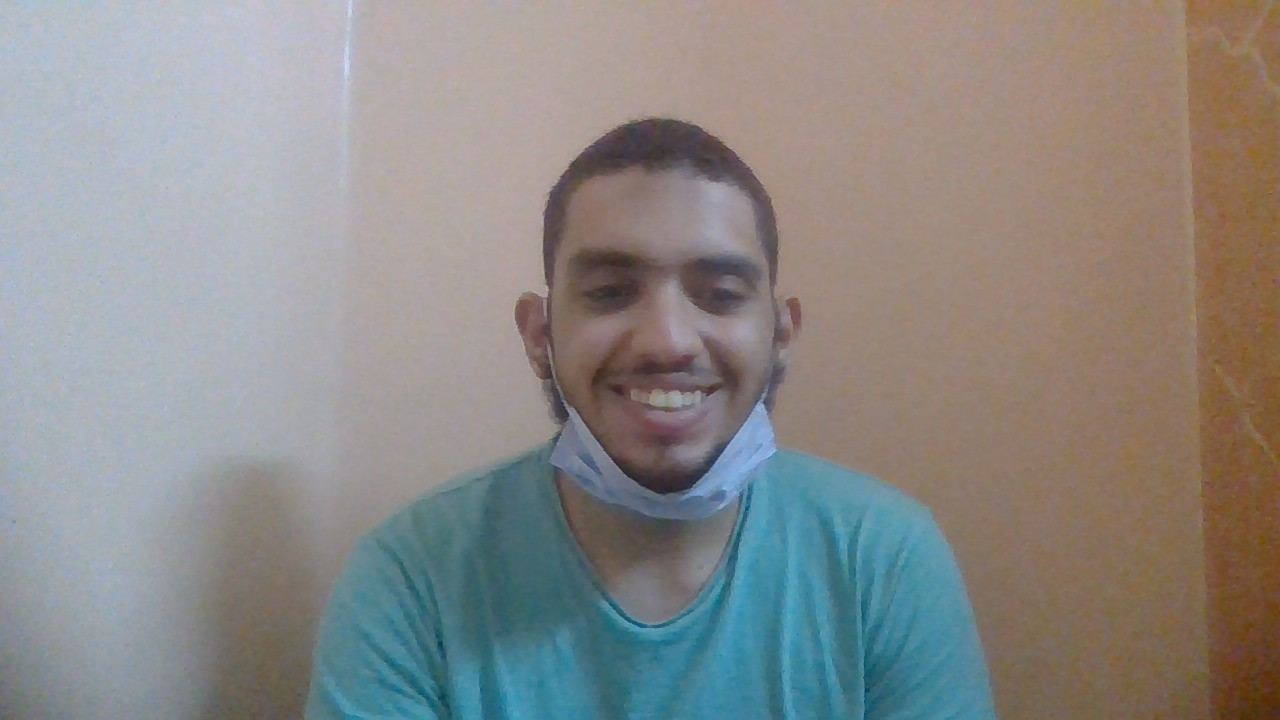Nomask: (512, 312, 796, 521)
